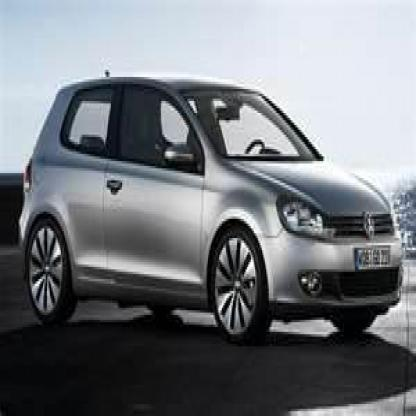Vehicle: (21, 77, 410, 358)
